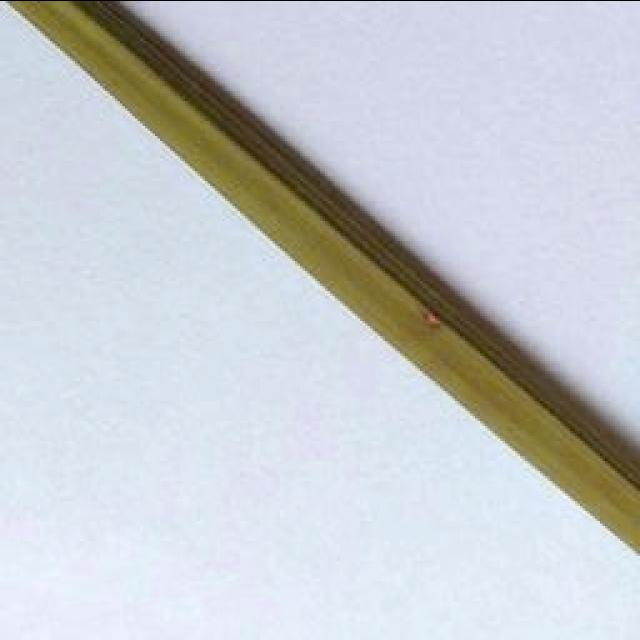Unhealthy: (418, 308, 440, 326)
